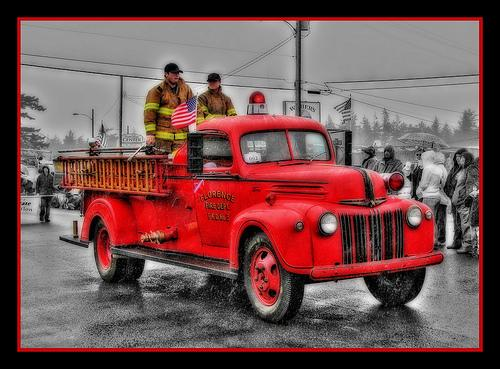truck: (53, 63, 444, 324)
